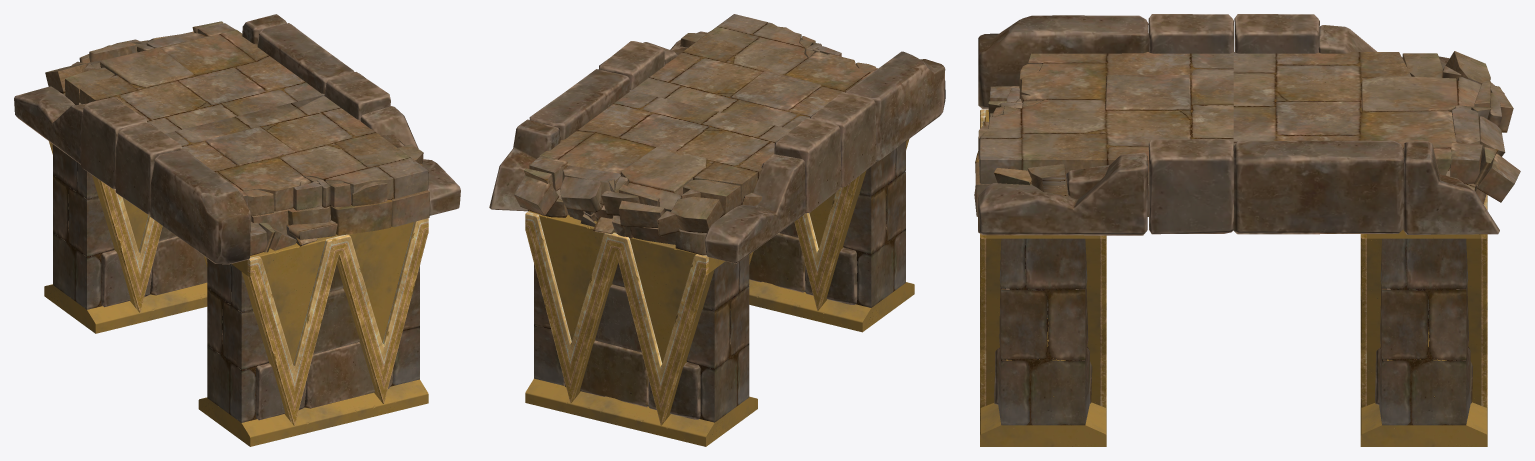
3 renders of one model, left to right at view 1: azimuth 30°, elevation 25°; view 2: azimuth 150°, elevation 25°; view 3: azimuth 270°, elevation 25°, orthographic. The views are drawn at different scales.
Parts seen in each view (by area): view 1: SM_DK_Bridge_8m_01v3_LOD0; view 2: SM_DK_Bridge_8m_01v3_LOD0; view 3: SM_DK_Bridge_8m_01v3_LOD0.
Part boxes in pixels (bbox=[...]): SM_DK_Bridge_8m_01v3_LOD0: bbox=[14, 14, 460, 446]; SM_DK_Bridge_8m_01v3_LOD0: bbox=[489, 14, 945, 446]; SM_DK_Bridge_8m_01v3_LOD0: bbox=[974, 14, 1520, 446].
Bounding box in the file's own units: 5.48 × 5.36 × 8.61.
6 materials, 6 textured.
